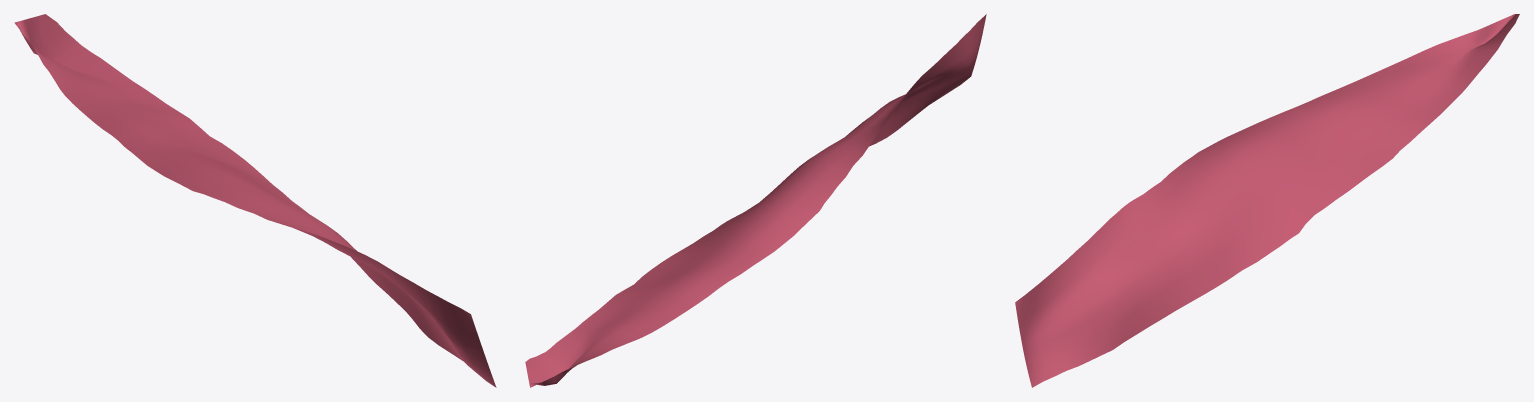
3 renders of one model, left to right at view 1: azimuth 30°, elevation 25°; view 2: azimuth 150°, elevation 25°; view 3: azimuth 330°, elevation 25°, orthographic. The views are drawn at different scales.
Visible parts, largest first — view 1: 右侧股外侧肌间隔; view 2: 右侧股外侧肌间隔; view 3: 右侧股外侧肌间隔.
Part boxes in pixels (x1,y1,x2,y2): 右侧股外侧肌间隔: [14, 14, 496, 387]; 右侧股外侧肌间隔: [525, 14, 986, 387]; 右侧股外侧肌间隔: [1015, 14, 1519, 387].
Bounding box in the file's own units: 0.0529 × 0.0391 × 0.3939.
